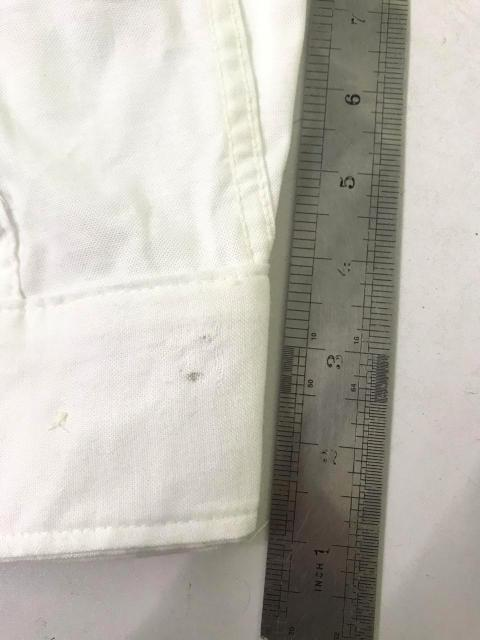Dirty_mark: (175, 367, 204, 387), (199, 329, 217, 347)
